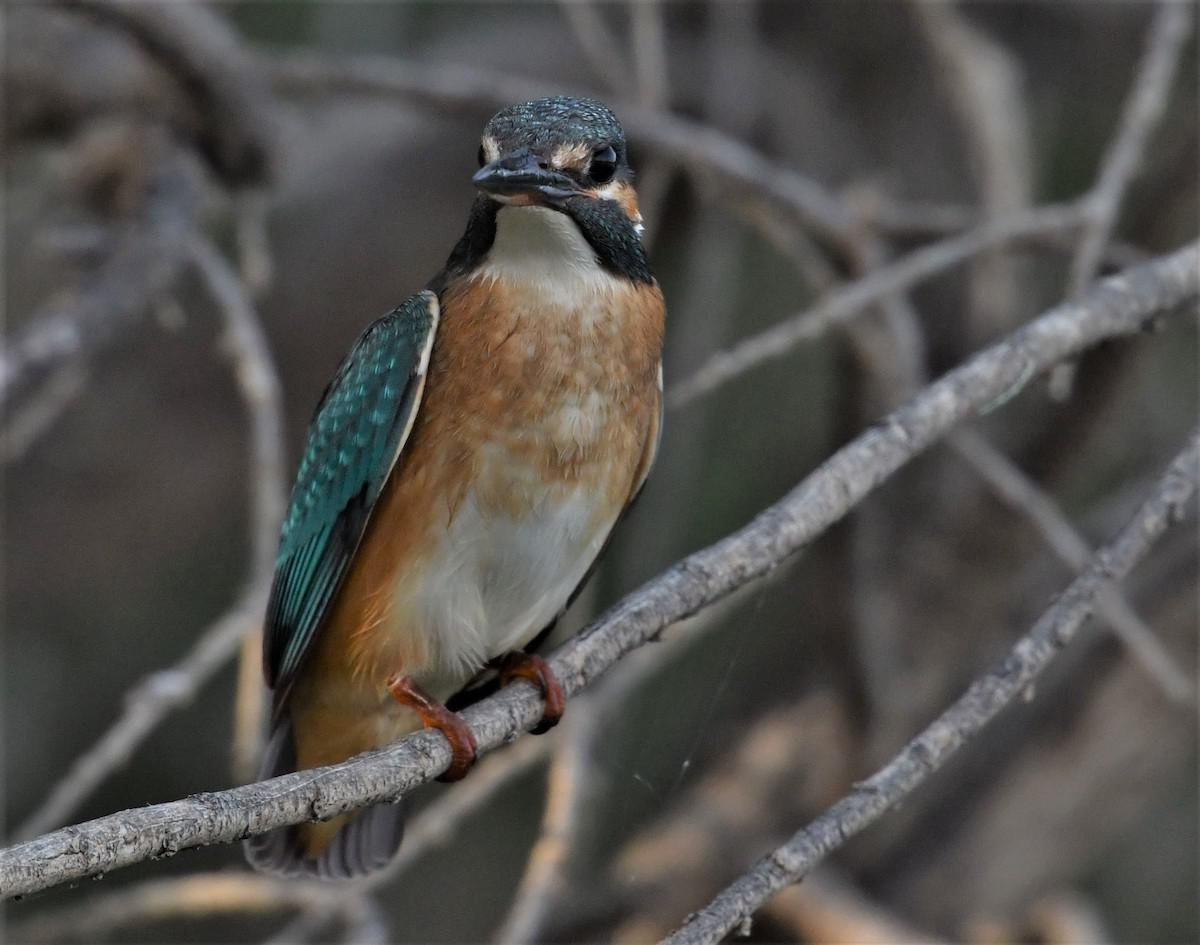kingfisher: (188, 75, 697, 896)
